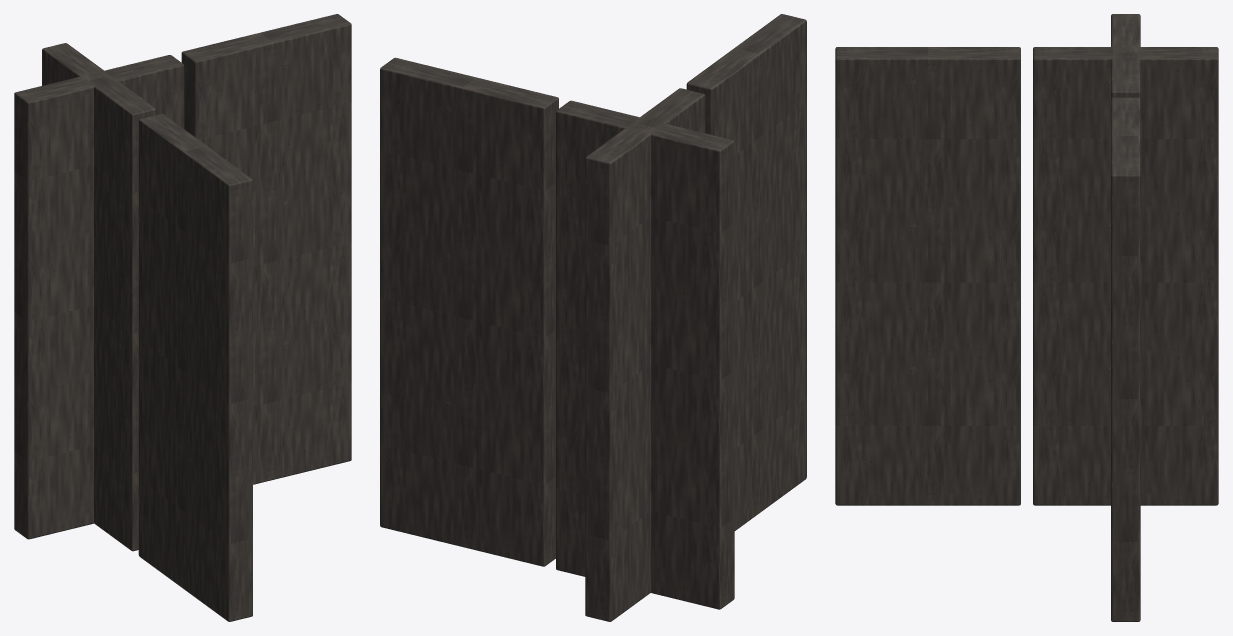
File: SM_Env_Tile_m3_m3.fbx
3 views of the same model, side by side, from view 1: azimuth 30°, elevation 25°; view 2: azimuth 150°, elevation 25°; view 3: azimuth 270°, elevation 25° (orthographic). The views are drawn at different scales.
Parts seen in each view (by area): view 1: SM_Env_Tile_m3_m3; view 2: SM_Env_Tile_m3_m3; view 3: SM_Env_Tile_m3_m3.
Boxes of the visible parts, x1,y1,x2,y2 form: SM_Env_Tile_m3_m3: (14, 14, 351, 621); SM_Env_Tile_m3_m3: (380, 14, 806, 621); SM_Env_Tile_m3_m3: (835, 14, 1218, 621).
Size of what is drawn, in the model's own units: 194 by 194 by 250.
Materials: 1 (1 with a texture image).
